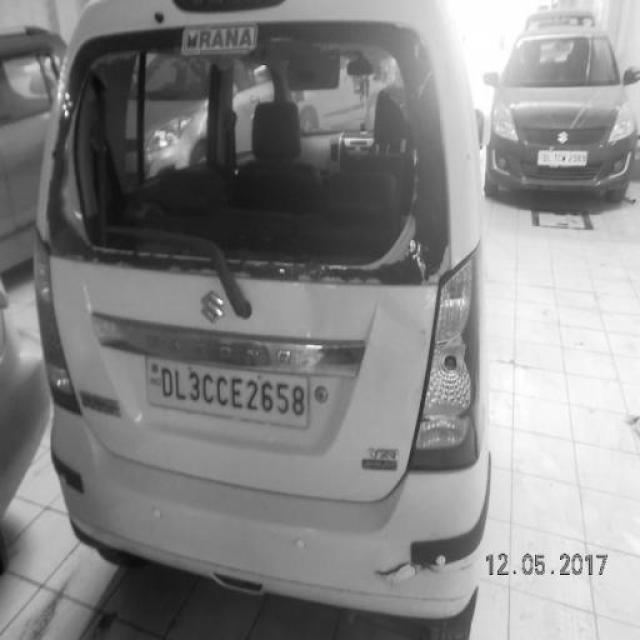shatter: (54, 29, 444, 287)
tear: (373, 557, 477, 584)
